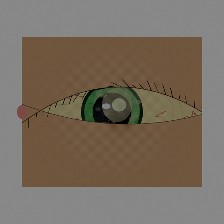corneal_ulcer: (89, 83, 145, 127)
